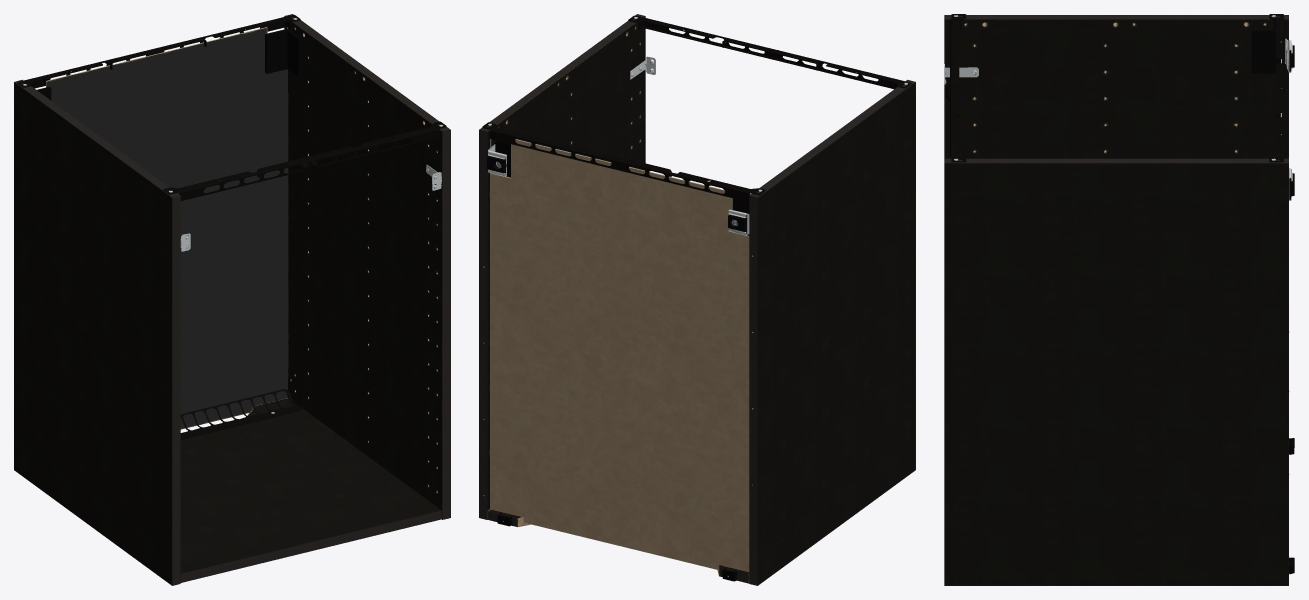
Rendered from metod_szafka_stojaca_sprz_zabud_zlew_80591678.glb.
3 views of the same model, side by side, from view 1: azimuth 30°, elevation 25°; view 2: azimuth 150°, elevation 25°; view 3: azimuth 270°, elevation 25° (orthographic). The views are drawn at different scales.
Parts seen in each view (by area): view 1: metod_szafka_stojaca_sprz_zabud_zlew_80591678; view 2: metod_szafka_stojaca_sprz_zabud_zlew_80591678; view 3: metod_szafka_stojaca_sprz_zabud_zlew_80591678.
Boxes of the visible parts, x1,y1,x2,y2 form: metod_szafka_stojaca_sprz_zabud_zlew_80591678: (14,14,450,585); metod_szafka_stojaca_sprz_zabud_zlew_80591678: (479,14,915,585); metod_szafka_stojaca_sprz_zabud_zlew_80591678: (944,14,1294,585).
Size of the model in its own units: 0.6 by 0.802 by 0.6003.
Materials: 1 (1 with a texture image).
